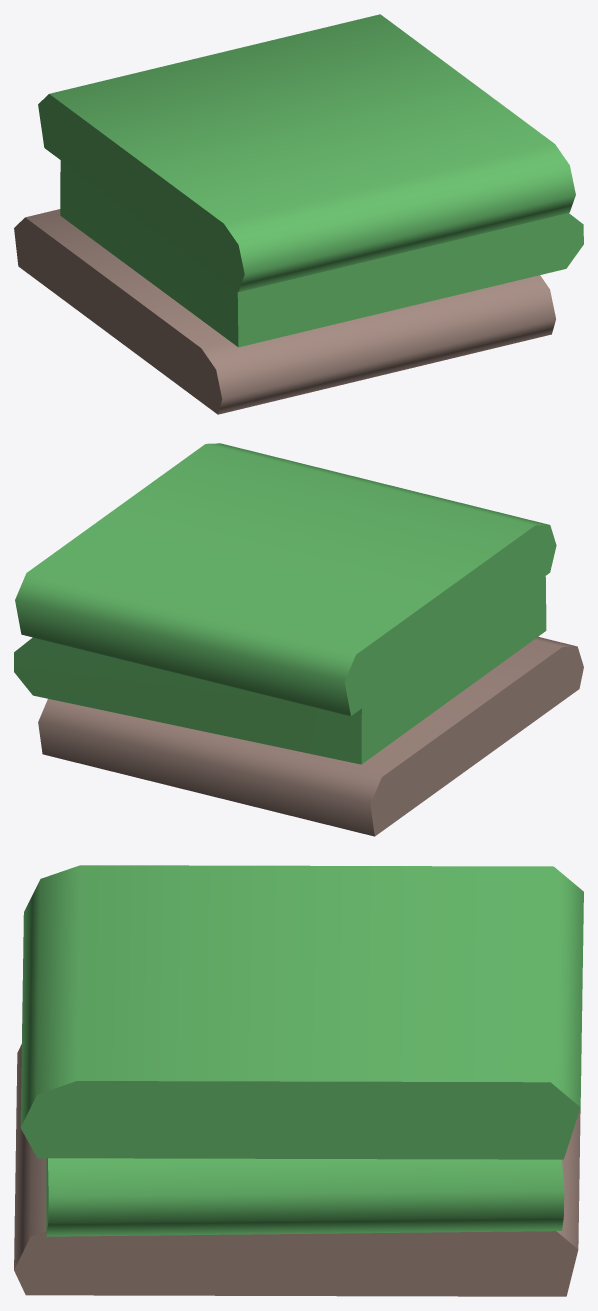
File: shop_046.fbx
The picture shows the model from 3 angles, top to bottom: view 1: azimuth 30°, elevation 25°; view 2: azimuth 150°, elevation 25°; view 3: azimuth 270°, elevation 25°; orthographic projection. The views are drawn at different scales.
Parts seen in each view (by area): view 1: shop_046; view 2: shop_046; view 3: shop_046.
Boxes of the visible parts, x1,y1,x2,y2 form: shop_046: (14,14,583,414); shop_046: (14,443,583,836); shop_046: (14,865,583,1296).
Bounding box in the file's own units: 41.03 × 40.51 × 17.96.
